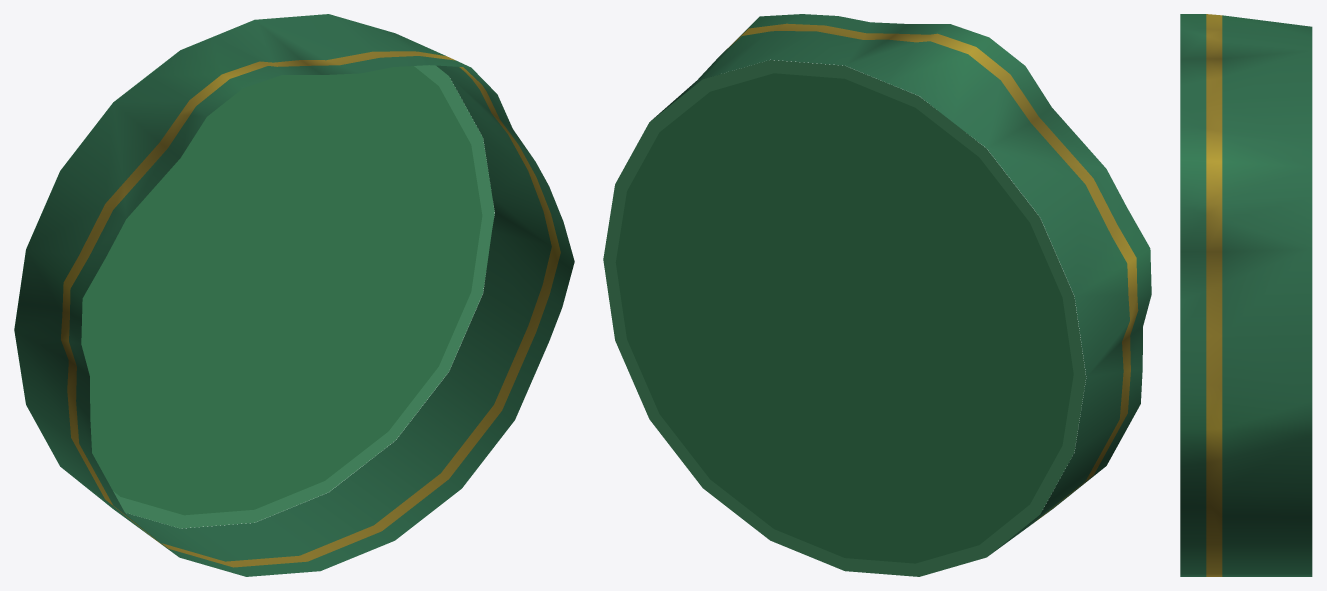
The model's file is HolidayTableRound.fbx.
3 views of the same model, side by side, from view 1: azimuth 30°, elevation 25°; view 2: azimuth 150°, elevation 25°; view 3: azimuth 270°, elevation 25° (orthographic).
Visible parts, largest first — view 1: HolidayTableRound; view 2: HolidayTableRound; view 3: HolidayTableRound.
Part boxes in pixels (x1=…): HolidayTableRound: x1=14, y1=14, x2=574, y2=576; HolidayTableRound: x1=603, y1=14, x2=1151, y2=576; HolidayTableRound: x1=1180, y1=14, x2=1312, y2=576.
Size of the model in its own units: 217 by 212 by 50.22.
